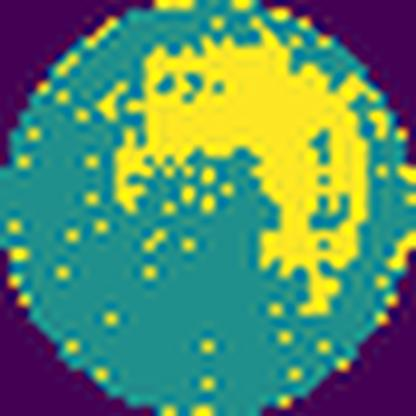Donut: (91, 31, 378, 326)
